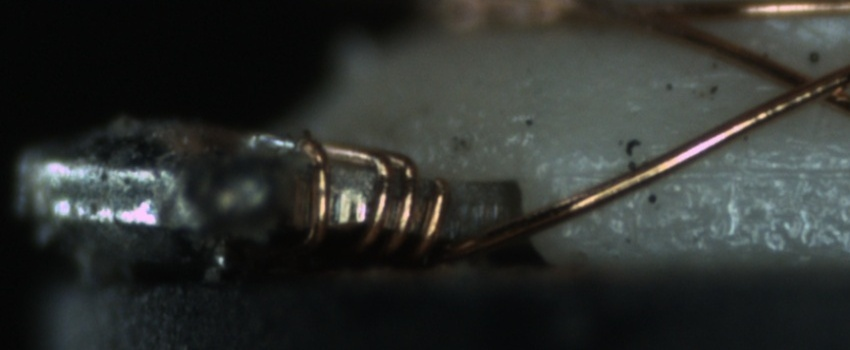CL: (765, 56, 849, 115)
DL: (560, 140, 849, 204)
TE: (275, 129, 462, 255)
